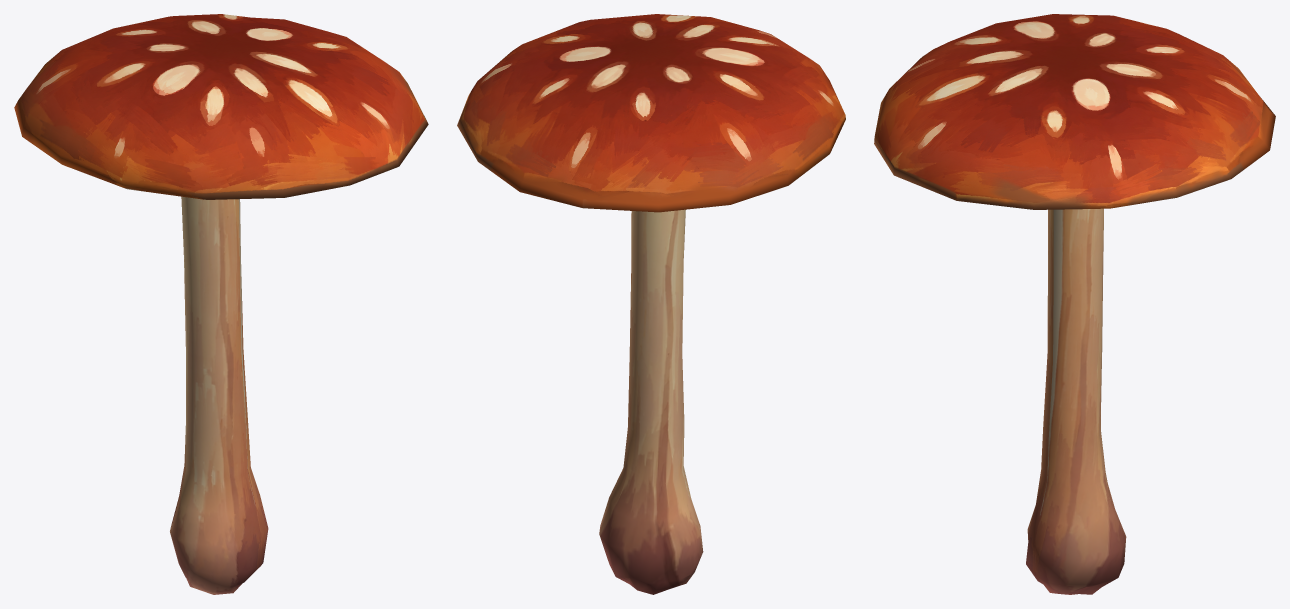
Rendered from MUSHROOM1.fbx.
3 renders of one model, left to right at view 1: azimuth 30°, elevation 25°; view 2: azimuth 150°, elevation 25°; view 3: azimuth 270°, elevation 25°, orthographic.
Parts seen in each view (by area): view 1: Mushroom_9.1_Mushrooms_0.002, Mushroom_9.1_Mushrooms_0.003; view 2: Mushroom_9.1_Mushrooms_0.002, Mushroom_9.1_Mushrooms_0.003; view 3: Mushroom_9.1_Mushrooms_0.002, Mushroom_9.1_Mushrooms_0.003.
Part boxes in pixels (box(x1,y1,x2,y2)): Mushroom_9.1_Mushrooms_0.002: box(14, 14, 428, 199); Mushroom_9.1_Mushrooms_0.003: box(170, 196, 268, 594); Mushroom_9.1_Mushrooms_0.002: box(457, 14, 845, 212); Mushroom_9.1_Mushrooms_0.003: box(599, 209, 703, 594); Mushroom_9.1_Mushrooms_0.002: box(874, 14, 1275, 209); Mushroom_9.1_Mushrooms_0.003: box(1026, 208, 1126, 594).
Size of the model in its own units: 1.08 by 1.65 by 1.11.
